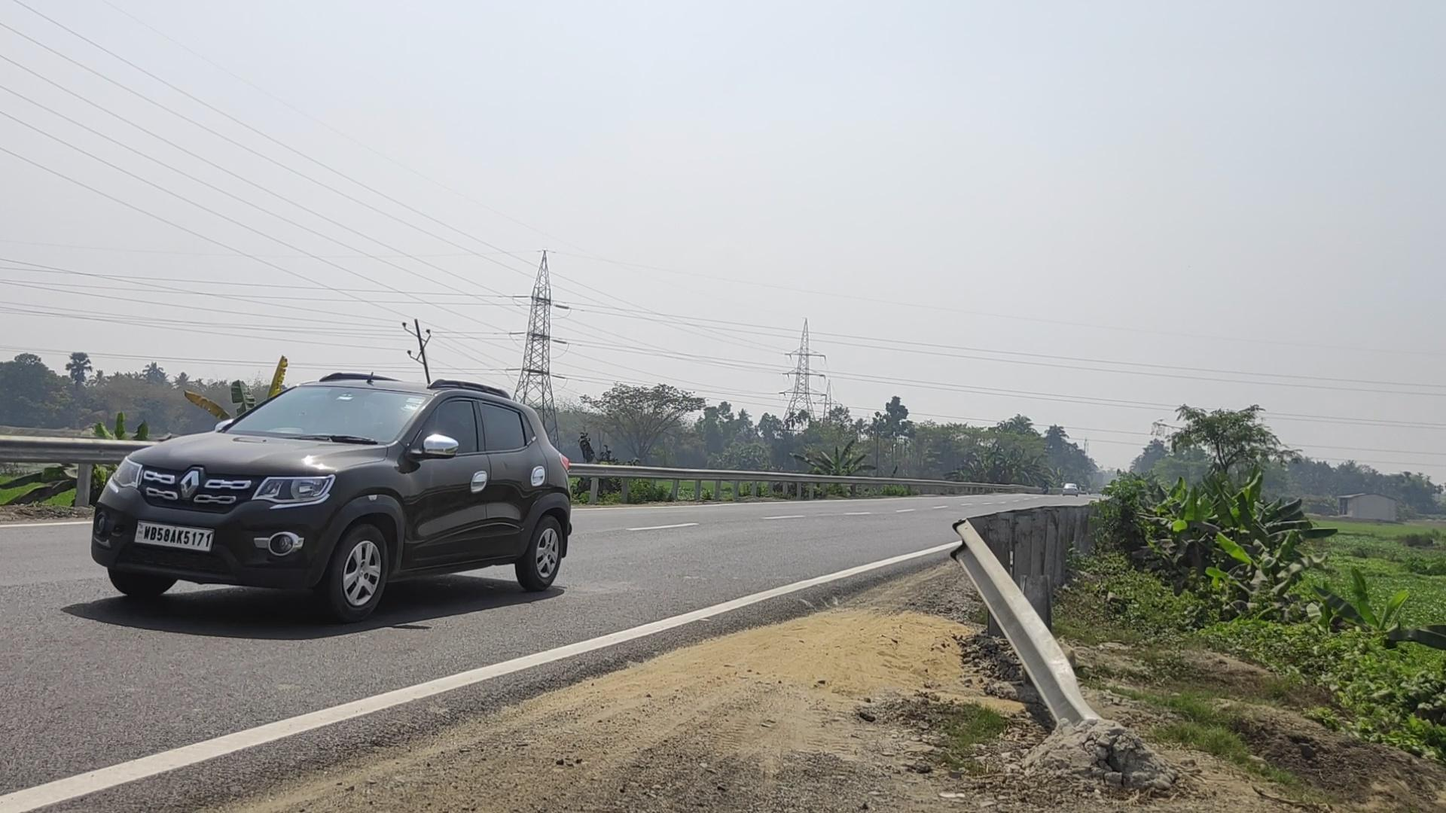car: (92, 373, 571, 623)
